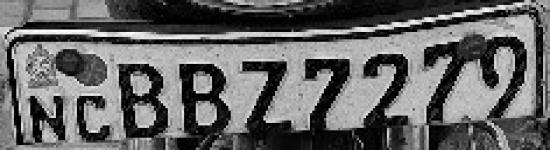2: (354, 48, 418, 131)
7: (418, 39, 473, 129), (301, 50, 354, 136)
9: (475, 33, 532, 122)
B: (172, 55, 235, 139), (114, 56, 172, 141)
C: (66, 93, 116, 142)
N: (26, 91, 70, 144)
Z: (236, 53, 299, 137)
